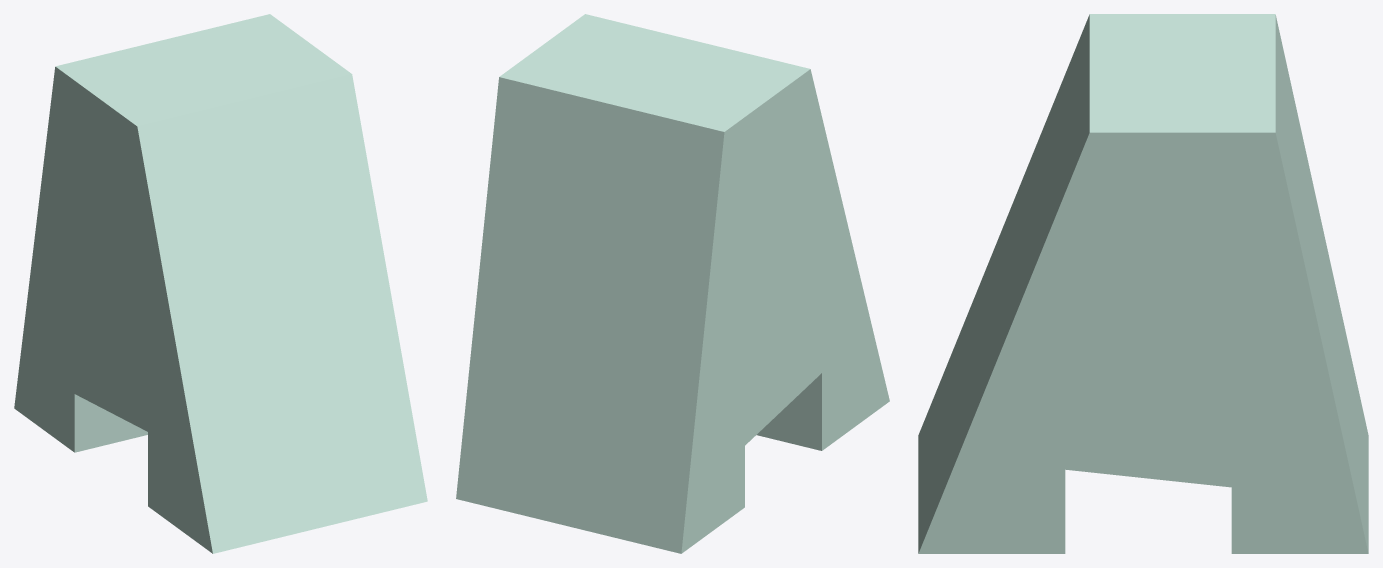
3 views of the same model, side by side, from view 1: azimuth 30°, elevation 25°; view 2: azimuth 150°, elevation 25°; view 3: azimuth 270°, elevation 25° (orthographic). The views are drawn at different scales.
Visible parts, largest first — view 1: Renderer Node; view 2: Renderer Node; view 3: Renderer Node.
Boxes of the visible parts, x1,y1,x2,y2 form: Renderer Node: (14, 14, 427, 553); Renderer Node: (456, 14, 889, 553); Renderer Node: (918, 14, 1368, 553).
Size of the model in its own units: 0.4531 by 0.75 by 0.7263.
